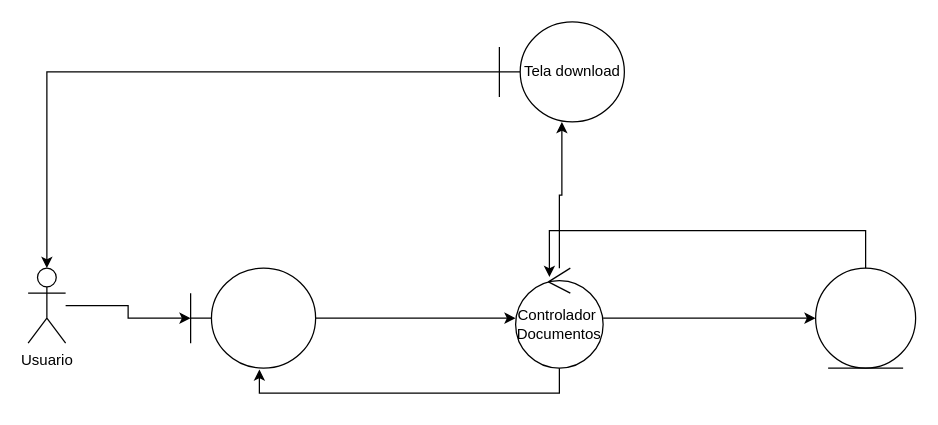
Some shapes in this 938 by 425 pixel diagram are drawn without their labels. Each missing label, with the box of its shape:
BD Documentos: (814, 267, 916, 368)
Tela Documentos: (189, 267, 316, 368)
